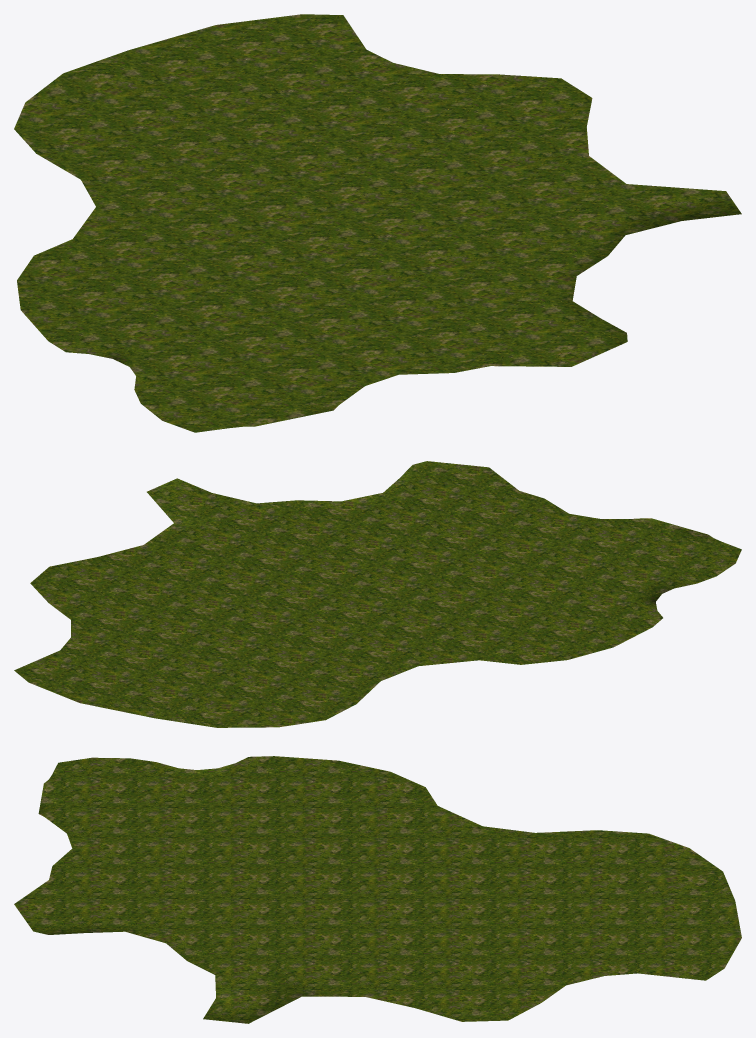
Rendered from OVERHILL_A_01_PROXY_LINE05.fbx.
3 renders of one model, top to bottom at view 1: azimuth 30°, elevation 25°; view 2: azimuth 150°, elevation 25°; view 3: azimuth 270°, elevation 25°, orthographic. The views are drawn at different scales.
Parts seen in each view (by area): view 1: OVERHILL_A_01_PROXY_LINE05; view 2: OVERHILL_A_01_PROXY_LINE05; view 3: OVERHILL_A_01_PROXY_LINE05.
Part boxes in pixels (<box>): OVERHILL_A_01_PROXY_LINE05: <box>14,14,741,432</box>; OVERHILL_A_01_PROXY_LINE05: <box>14,461,741,727</box>; OVERHILL_A_01_PROXY_LINE05: <box>14,756,741,1023</box>.
Size of the model in its own units: 176573 by 162 by 202890.
1 material, 1 textured.
